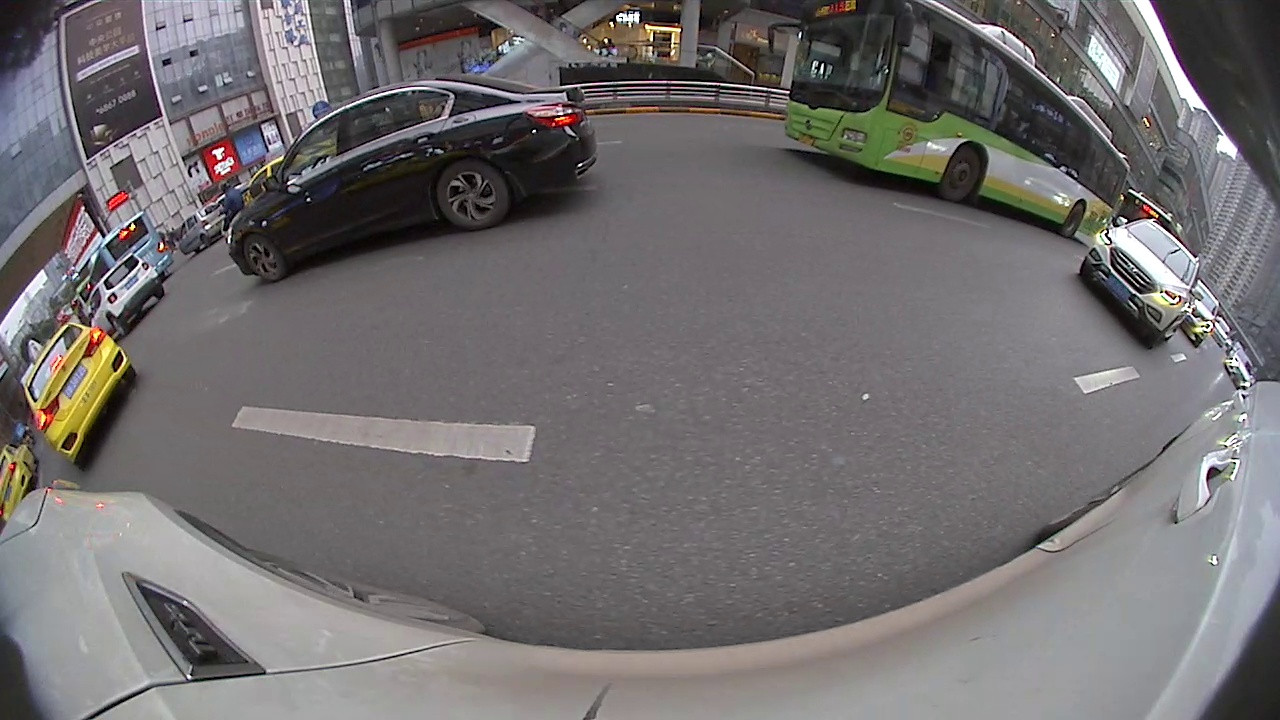bus: (780, 4, 1137, 240), (82, 214, 172, 312)
car: (224, 80, 597, 288), (1074, 216, 1203, 351), (21, 317, 132, 471), (84, 250, 168, 342)
front: (938, 143, 983, 202), (242, 232, 287, 285)
rear: (435, 157, 509, 232), (1060, 201, 1086, 240)
